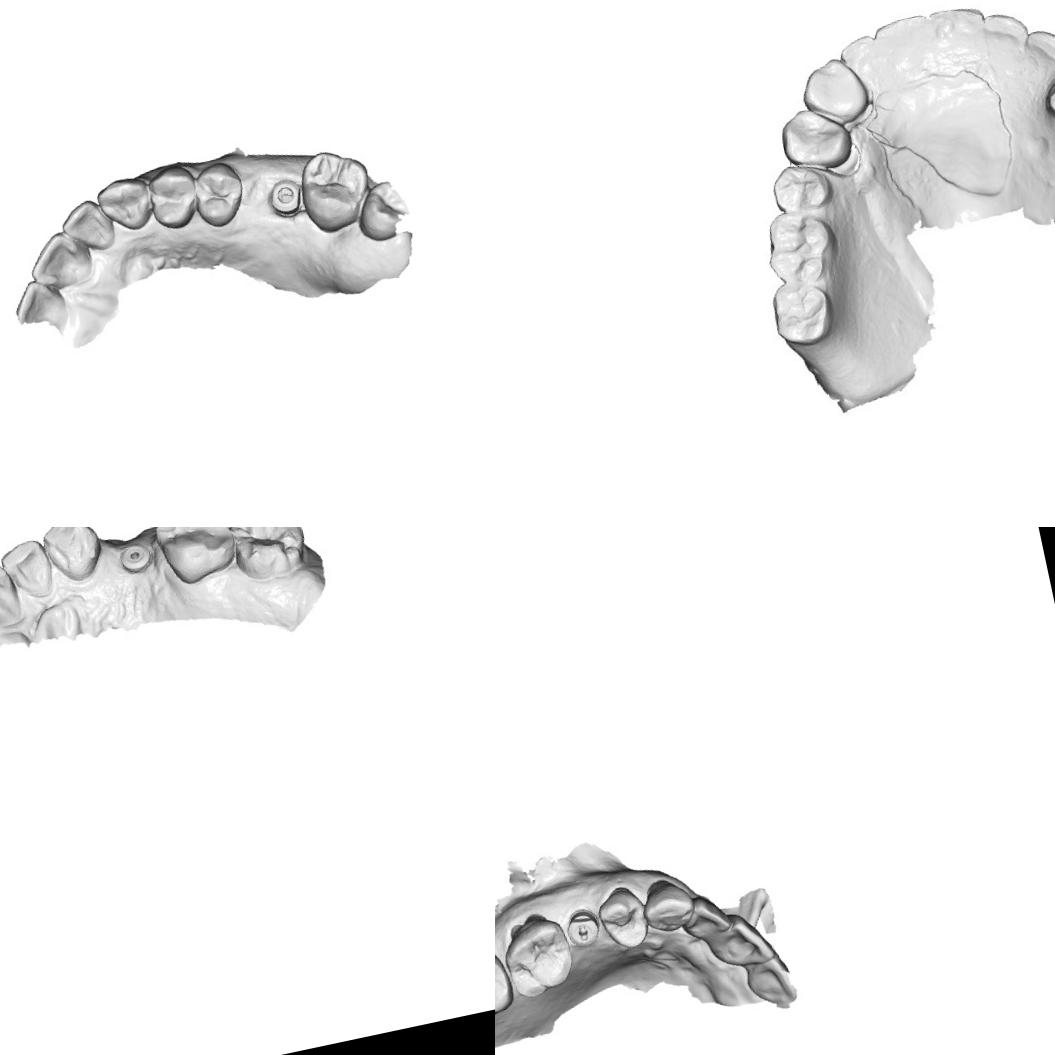canine: (796, 52, 870, 128), (36, 527, 108, 588), (92, 173, 157, 238), (635, 872, 698, 938), (1021, 23, 1055, 79)
implant: (266, 174, 308, 222), (114, 536, 156, 578)
implant_minus: (560, 905, 605, 952)
incisor: (22, 223, 96, 298), (706, 906, 782, 974), (877, 8, 946, 74), (0, 535, 58, 606), (56, 194, 119, 258), (928, 0, 994, 60), (738, 951, 800, 1013), (676, 889, 734, 946), (839, 30, 891, 88), (979, 6, 1033, 57), (0, 557, 25, 636)
molar: (496, 909, 582, 1004), (294, 143, 378, 238), (759, 206, 838, 284), (148, 527, 243, 590), (763, 271, 834, 347), (224, 527, 312, 585), (495, 941, 518, 1028)
premolar: (777, 100, 852, 168), (188, 156, 252, 232), (591, 880, 653, 957), (144, 161, 202, 234), (771, 164, 828, 218), (1040, 60, 1055, 122)
